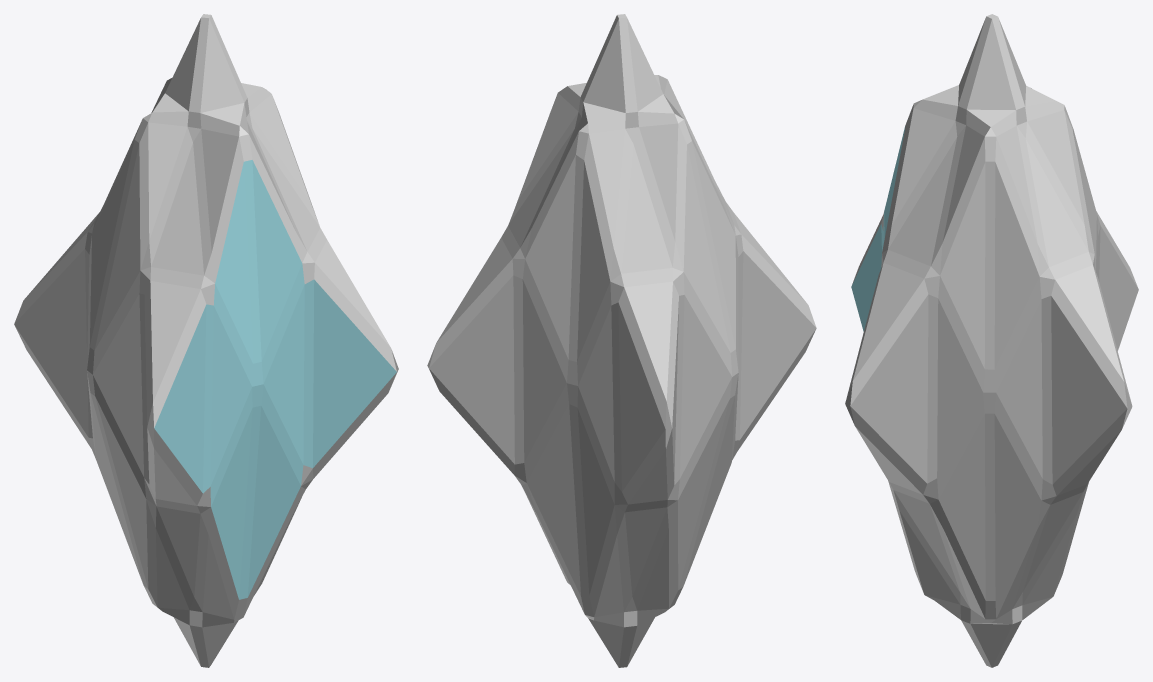
The model's file is MirrorIceBlock 1.fbx.
The picture shows the model from 3 angles, left to right: view 1: azimuth 30°, elevation 25°; view 2: azimuth 150°, elevation 25°; view 3: azimuth 270°, elevation 25°; orthographic projection.
Visible parts, largest first — view 1: Cube.003, Cube.007; view 2: Cube.003; view 3: Cube.003, Cube.007.
Boxes of the visible parts, box(x1,y1,x2,y2) form: Cube.003: box(14, 14, 398, 667); Cube.007: box(154, 160, 396, 599); Cube.003: box(427, 14, 816, 667); Cube.003: box(845, 14, 1138, 667); Cube.007: box(851, 126, 905, 331).
Size of the model in its own units: 380 by 931 by 382.
